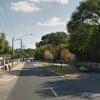Tree: (64, 4, 100, 58)
